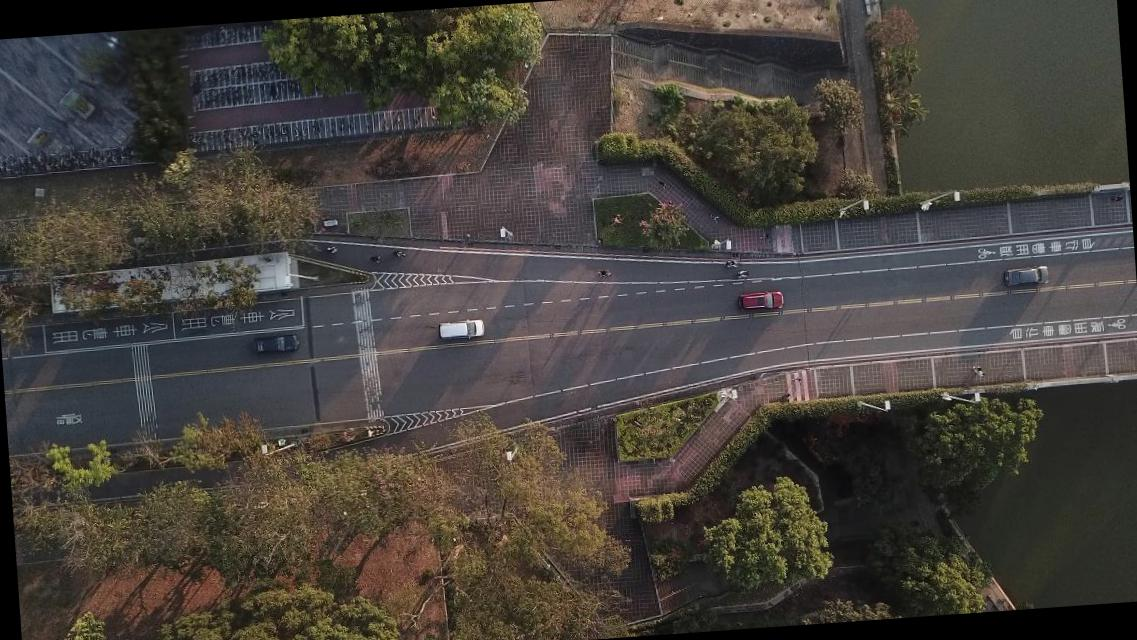vehicle: (736, 289, 784, 313), (437, 318, 484, 340), (250, 334, 300, 354), (1004, 264, 1048, 286)
